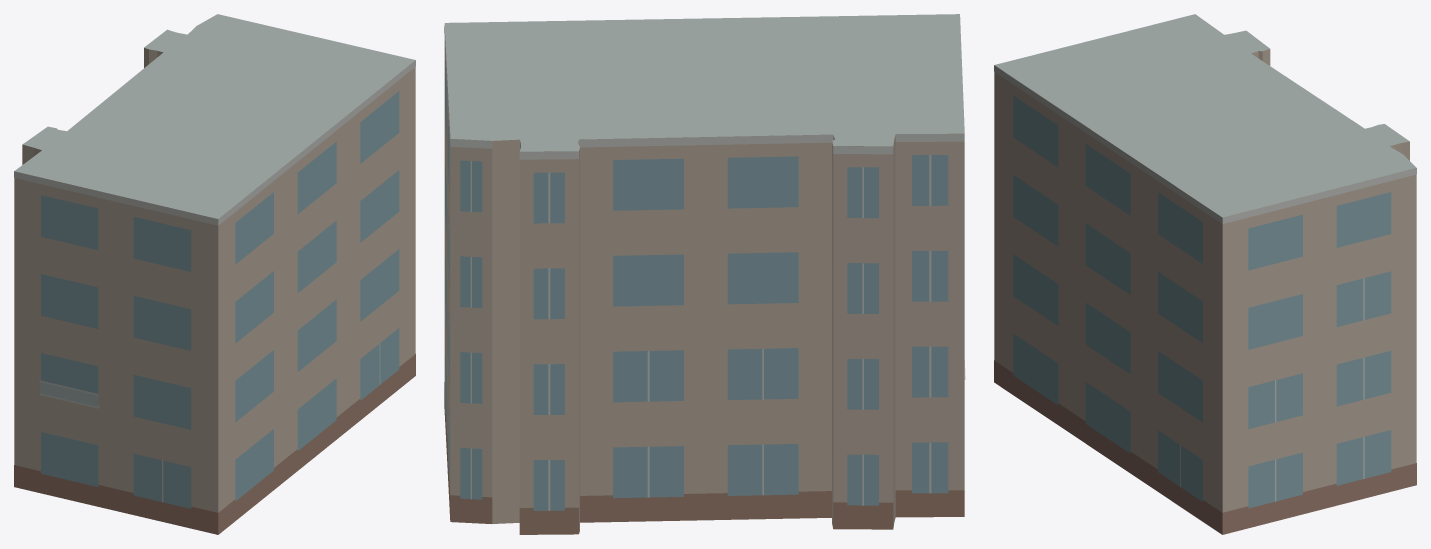
Rendered from survey-upis-32946398.glb.
3 renders of one model, left to right at view 1: azimuth 30°, elevation 25°; view 2: azimuth 150°, elevation 25°; view 3: azimuth 270°, elevation 25°, orthographic. The views are drawn at different scales.
Visible parts, largest first — view 1: survey-upis-32946398.tmp; view 2: survey-upis-32946398.tmp; view 3: survey-upis-32946398.tmp.
Boxes of the visible parts, x1,y1,x2,y2 form: survey-upis-32946398.tmp: [14, 14, 415, 534]; survey-upis-32946398.tmp: [444, 14, 965, 534]; survey-upis-32946398.tmp: [994, 14, 1416, 534].
Bounding box in the file's own units: 16.11 × 11.7 × 14.13.
